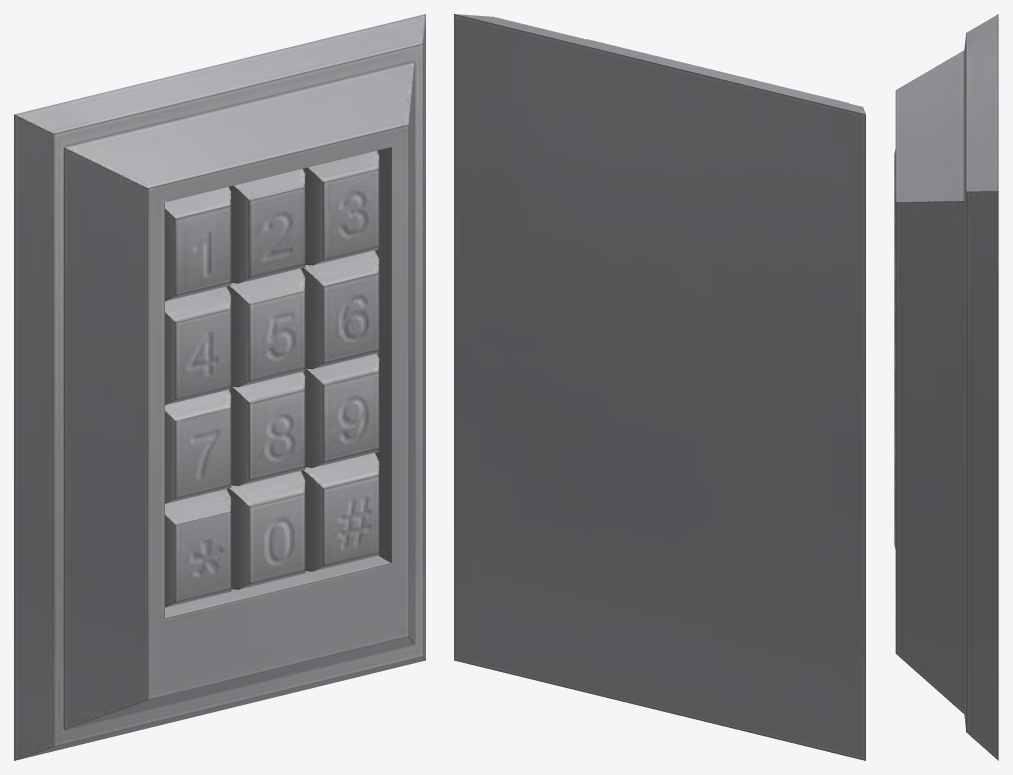
Rendered from keypad-opt.glb.
3 renders of one model, left to right at view 1: azimuth 30°, elevation 25°; view 2: azimuth 150°, elevation 25°; view 3: azimuth 270°, elevation 25°, orthographic. The views are drawn at different scales.
Parts seen in each view (by area): view 1: Cubo.004_Materiais_0; view 2: Cubo.004_Materiais_0; view 3: Cubo.004_Materiais_0.
Boxes of the visible parts, x1,y1,x2,y2 form: Cubo.004_Materiais_0: (14,14,425,760); Cubo.004_Materiais_0: (454,14,865,760); Cubo.004_Materiais_0: (894,14,998,760).
Bounding box in the file's own units: 0.1612 × 0.2417 × 0.0401.
Materials: 1 (1 with a texture image).
